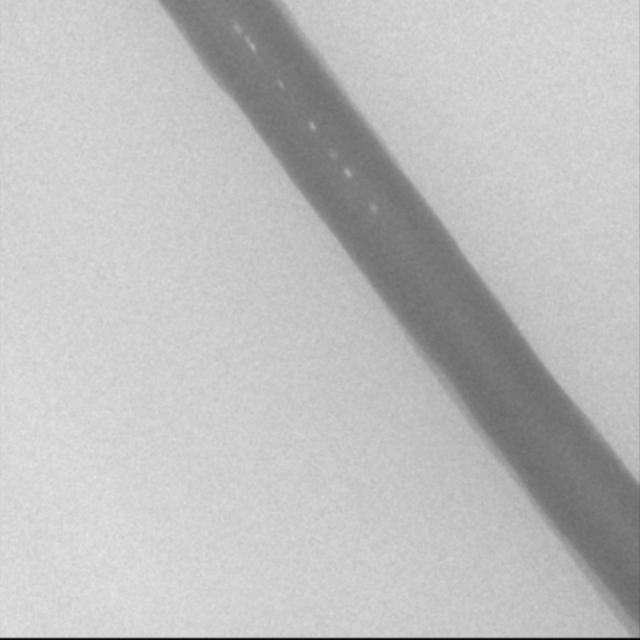air hole: (245, 37, 257, 54), (368, 200, 379, 216), (232, 22, 243, 37), (307, 118, 317, 133), (343, 166, 353, 180), (275, 76, 284, 91)
